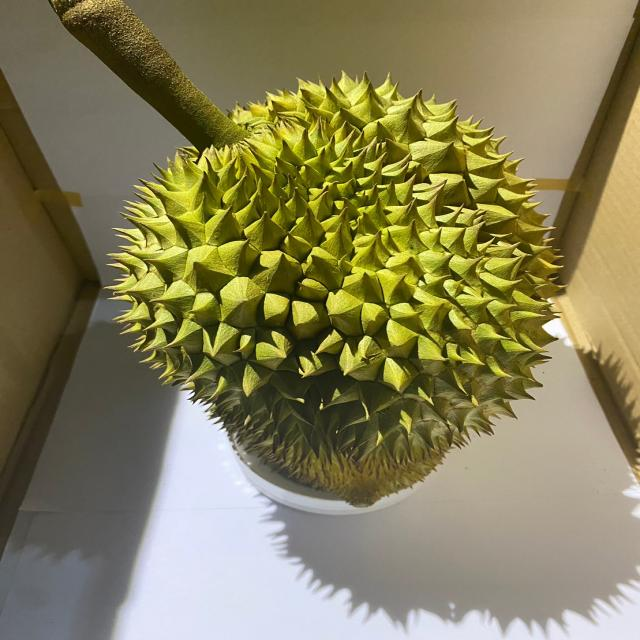immature: (104, 71, 564, 507)
